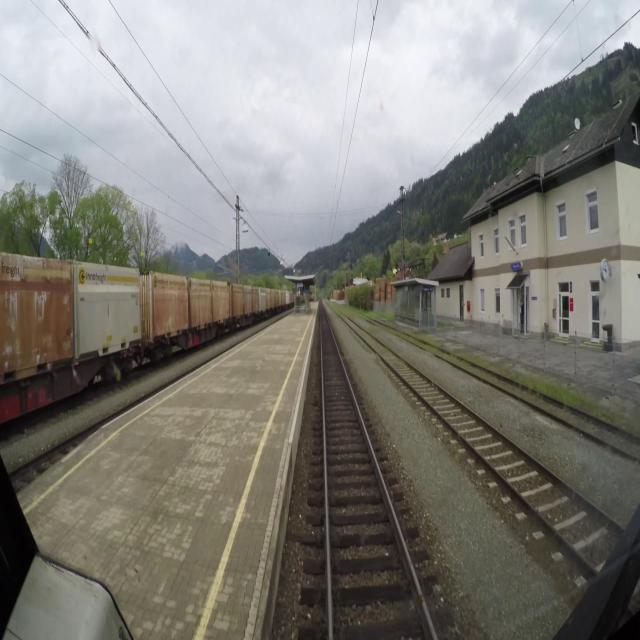rail-track: (340, 314, 618, 549)
